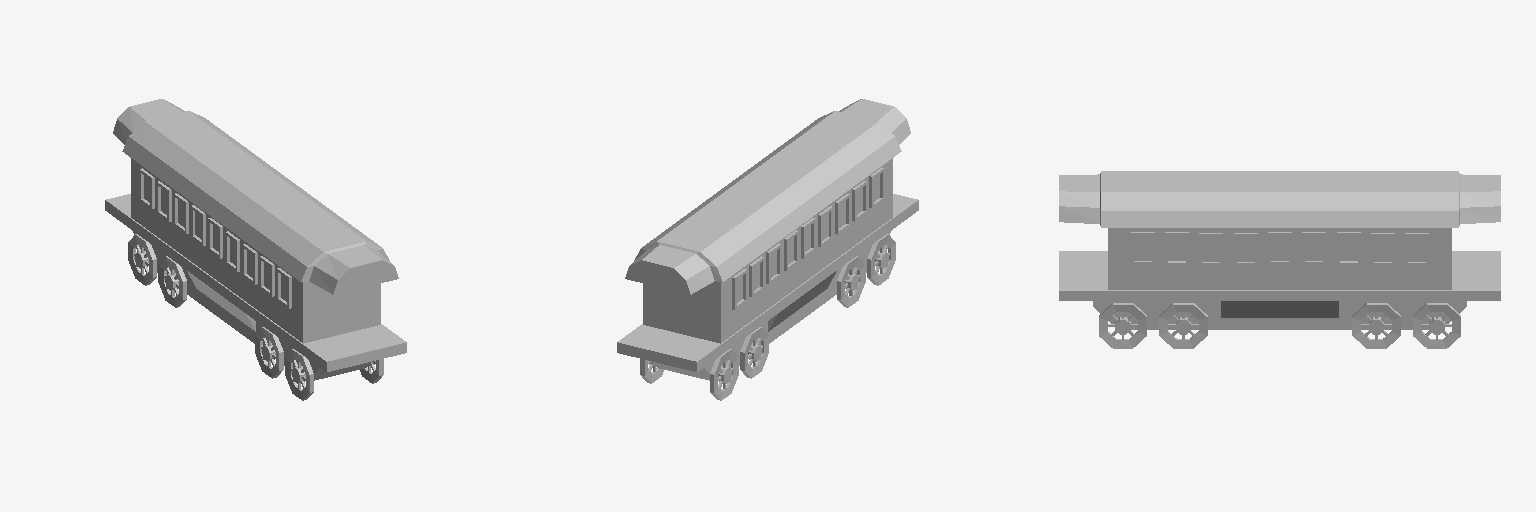
File: Carriage 2.obj
3 views of the same model, side by side, from view 1: azimuth 30°, elevation 25°; view 2: azimuth 150°, elevation 25°; view 3: azimuth 270°, elevation 25° (orthographic).
Visible parts, largest first — view 1: Cube.000_Cube.006; view 2: Cube.000_Cube.006; view 3: Cube.000_Cube.006.
Part boxes in pixels (x1,y1,x2,y2): Cube.000_Cube.006: (105, 99, 406, 400); Cube.000_Cube.006: (617, 99, 918, 400); Cube.000_Cube.006: (1059, 171, 1500, 348).
Bounding box in the file's own units: 2.98 × 4.8 × 12.91.